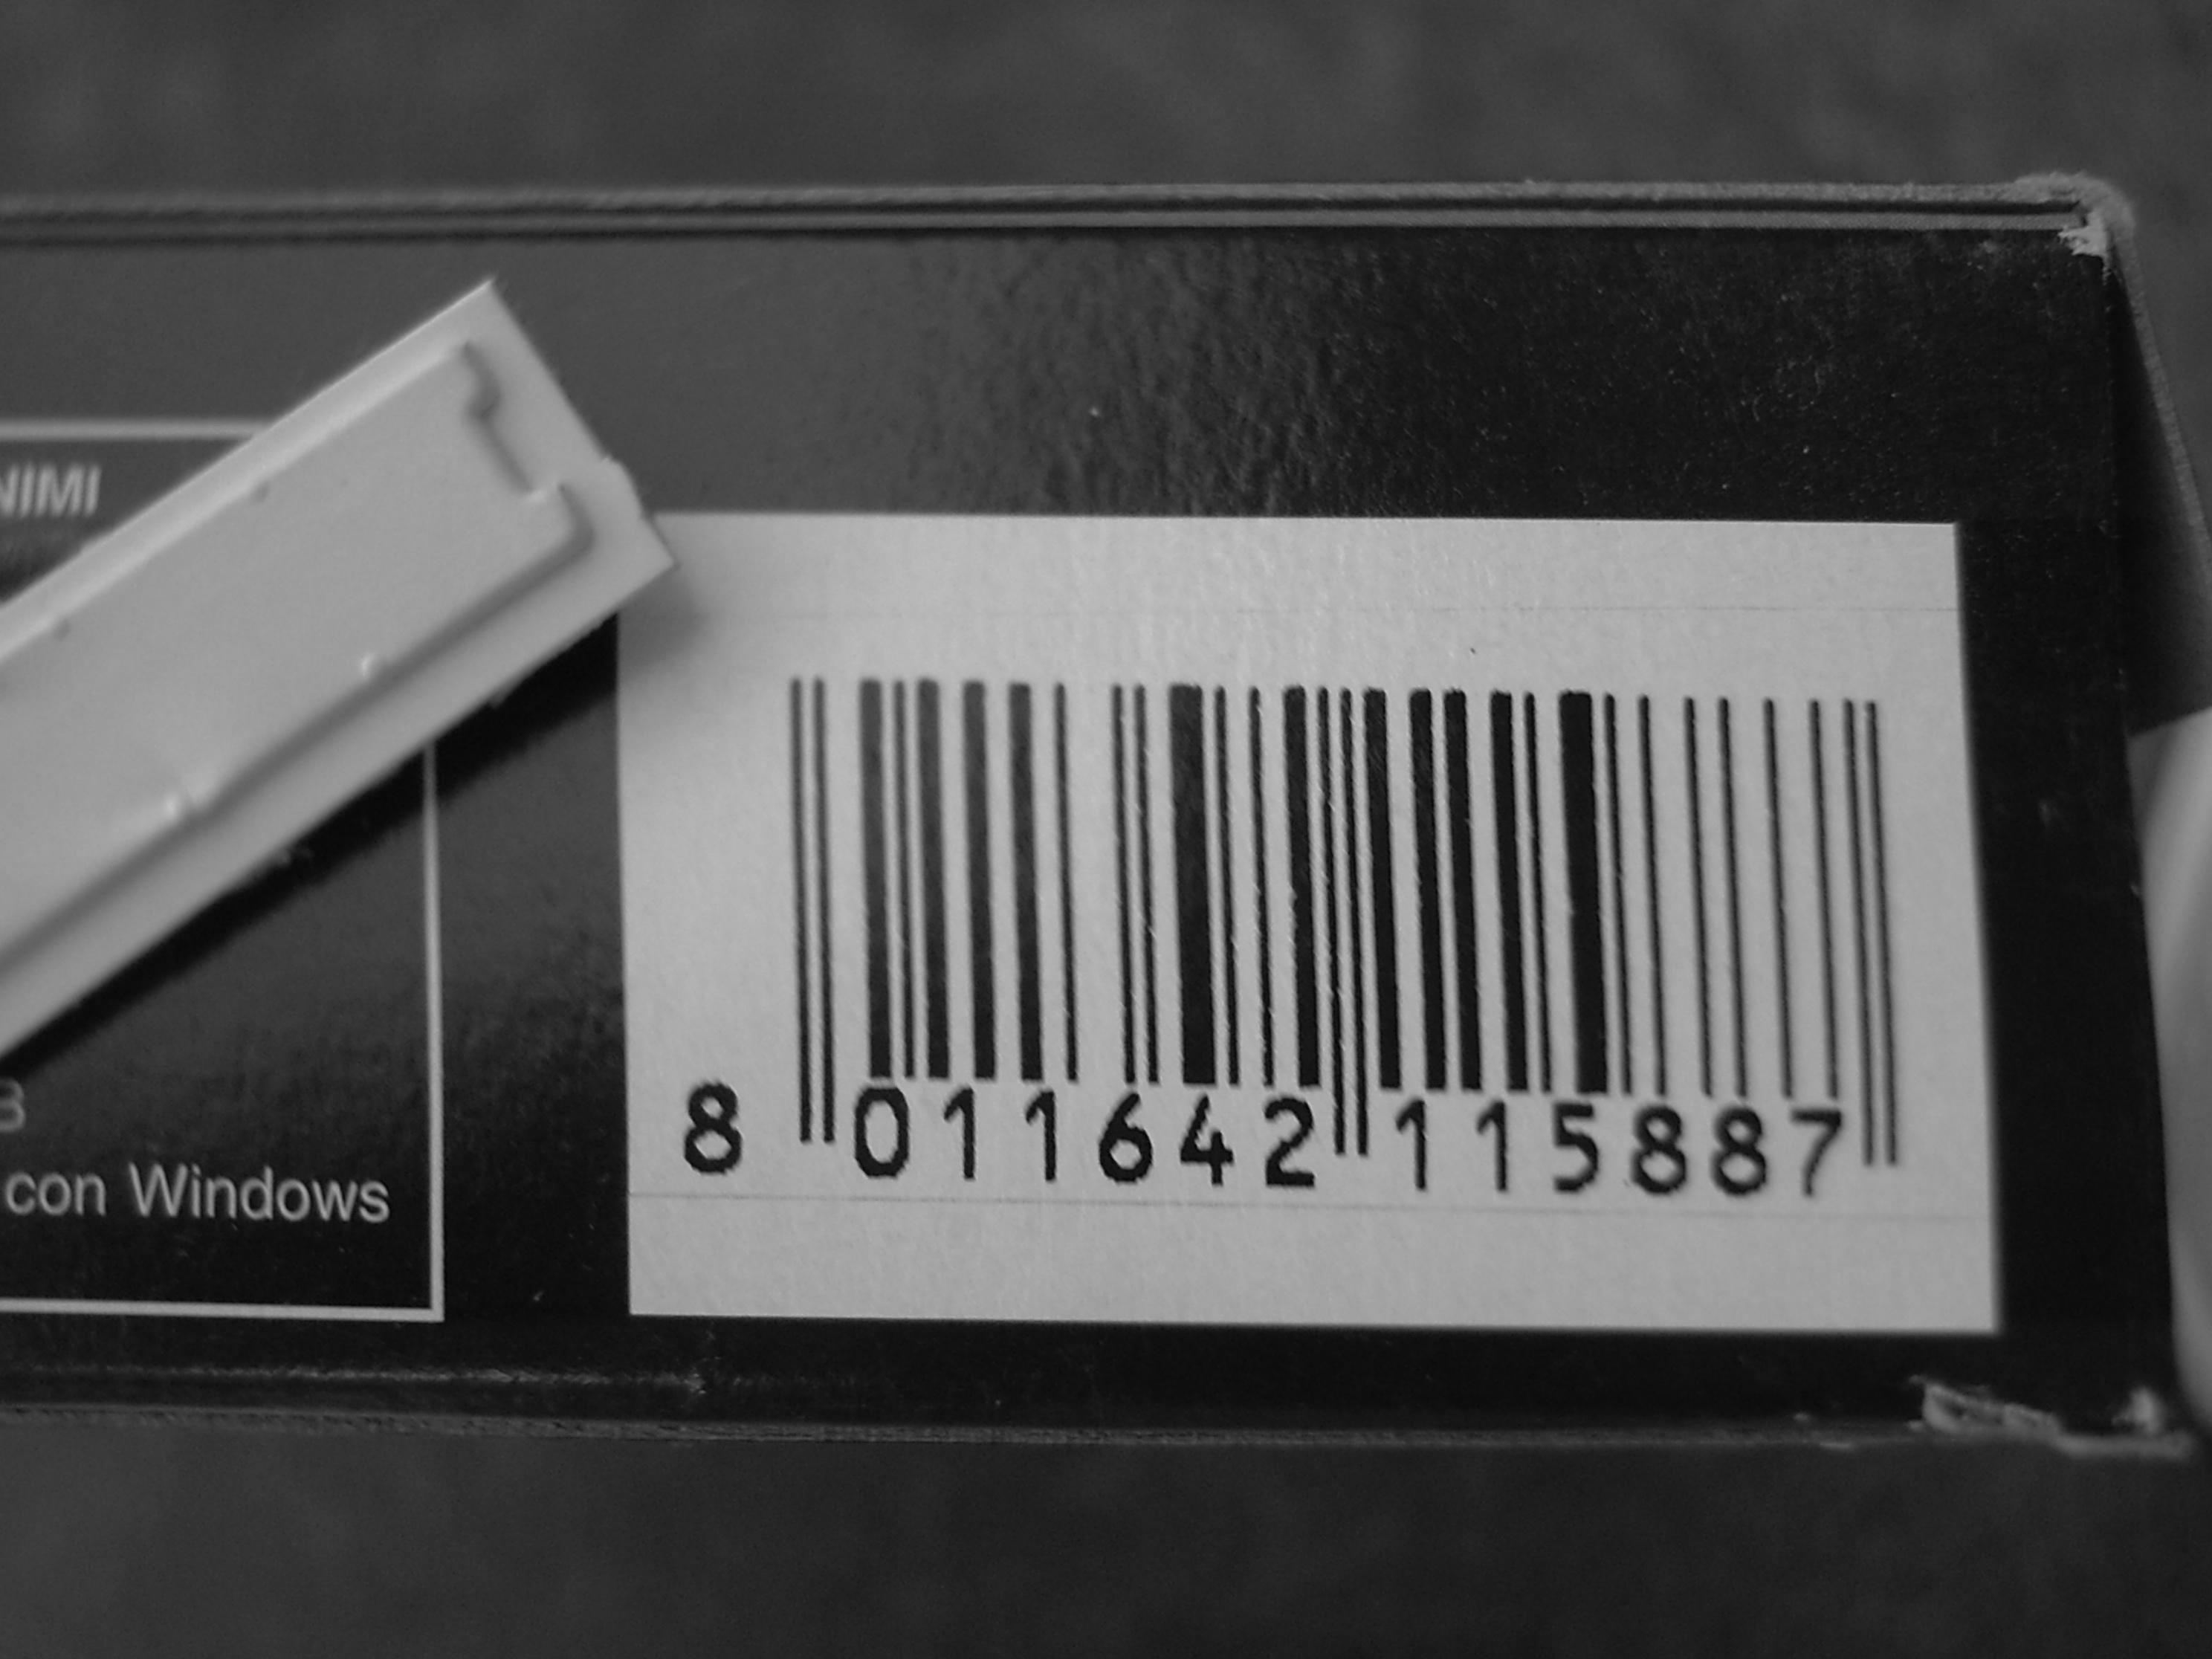Barcode: (735, 628, 1935, 1188)
